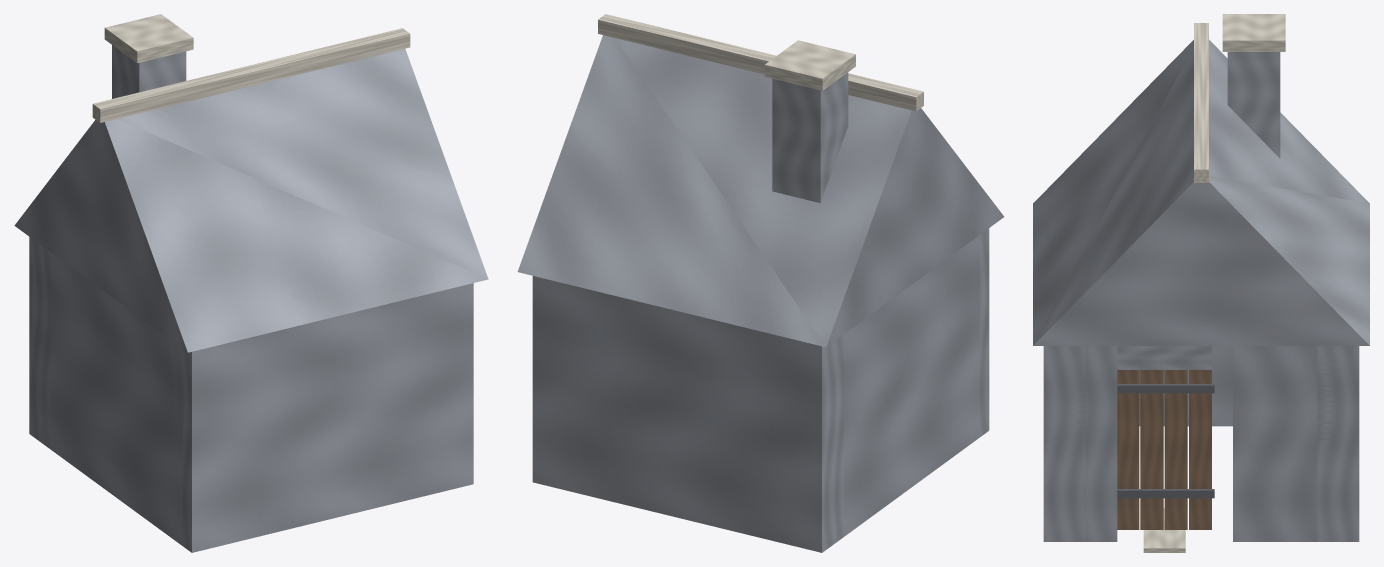
3 views of the same model, side by side, from view 1: azimuth 30°, elevation 25°; view 2: azimuth 150°, elevation 25°; view 3: azimuth 270°, elevation 25° (orthographic). The views are drawn at different scales.
Parts seen in each view (by area): view 1: sexton-hut; view 2: sexton-hut; view 3: sexton-hut, door-leaf/timber, door-leaf/iron.
Boxes of the visible parts, x1,y1,x2,y2 form: sexton-hut: (14,14,488,552); sexton-hut: (517,14,1004,552); sexton-hut: (1033,14,1369,552); door-leaf/timber: (1117,370,1211,529); door-leaf/iron: (1117,384,1214,498).
Bounding box in the file's own units: 3.4 × 4.32 × 3.2.
Materials: 5 (3 with a texture image).
